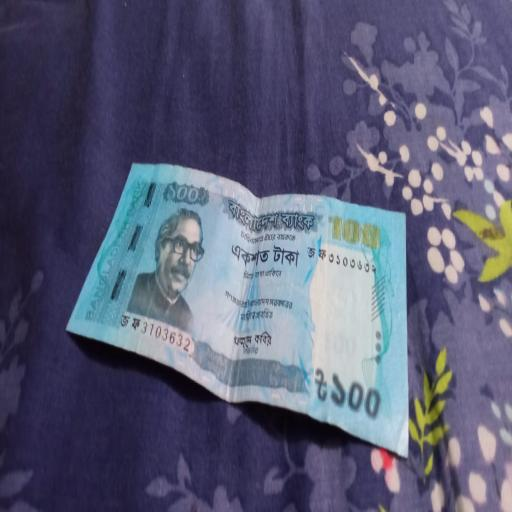100taka: (64, 166, 406, 457)
